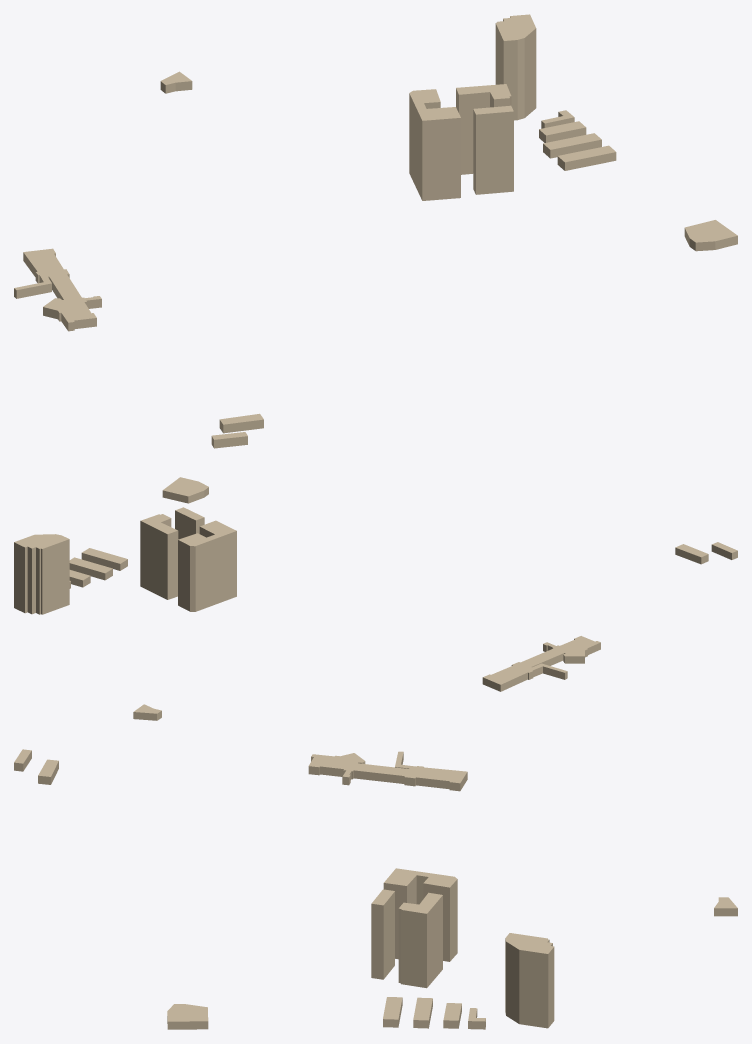
Rendered from -23_23-estimated-coarse.glb.
3 views of the same model, one above another, from view 1: azimuth 30°, elevation 25°; view 2: azimuth 150°, elevation 25°; view 3: azimuth 270°, elevation 25° (orthographic). The views are drawn at different scales.
Size of the model in its own units: 872 by 111 by 979.
